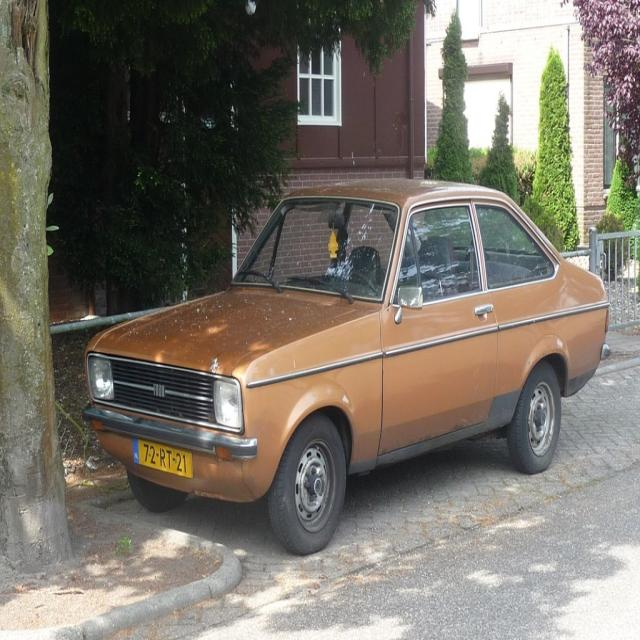car: (71, 172, 617, 556)
